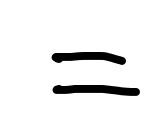eqv: (53, 52, 140, 97)
